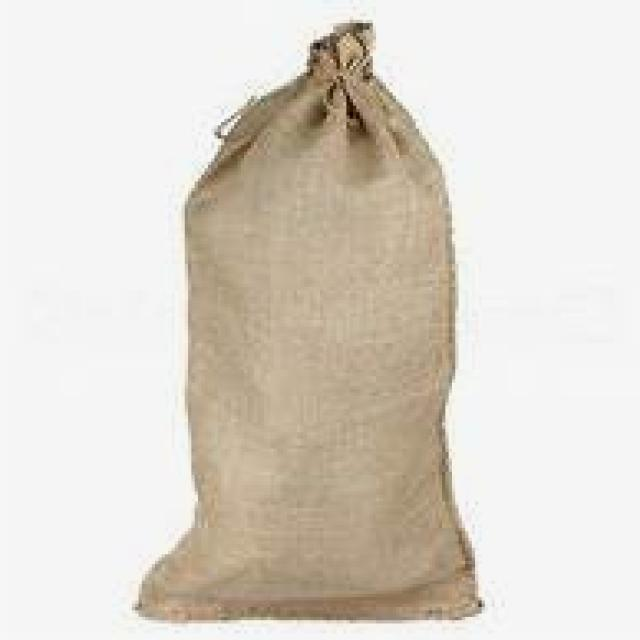gunny_bag: (134, 17, 488, 627)
